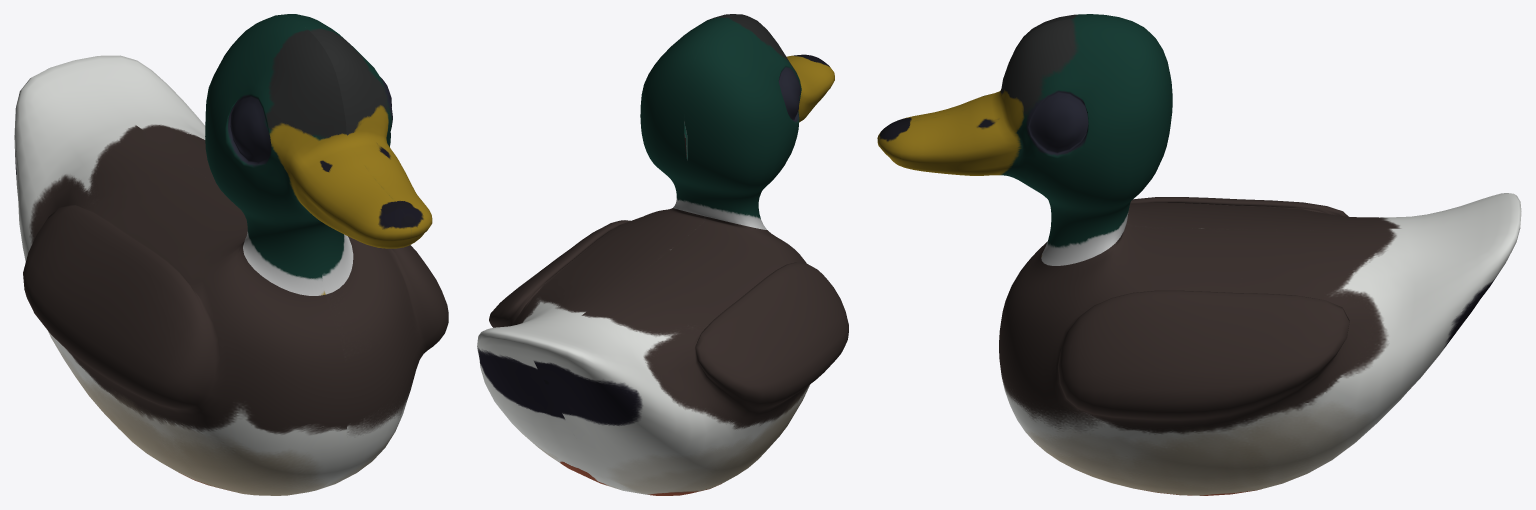
File: duck_rest_y.fbx
3 renders of one model, left to right at view 1: azimuth 30°, elevation 25°; view 2: azimuth 150°, elevation 25°; view 3: azimuth 270°, elevation 25°, orthographic. The views are drawn at different scales.
Visible parts, largest first — view 1: duck_rest1; view 2: duck_rest1; view 3: duck_rest1.
Boxes of the visible parts, x1,y1,x2,y2 form: duck_rest1: (14,14,448,495); duck_rest1: (477,14,848,495); duck_rest1: (877,14,1521,495).
Bounding box in the file's own units: 1.2 × 1.66 × 2.1.
